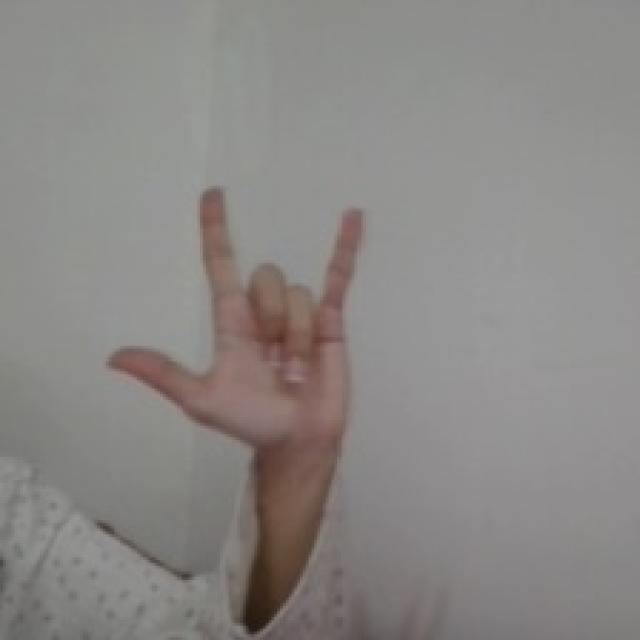love: (96, 179, 372, 456)
